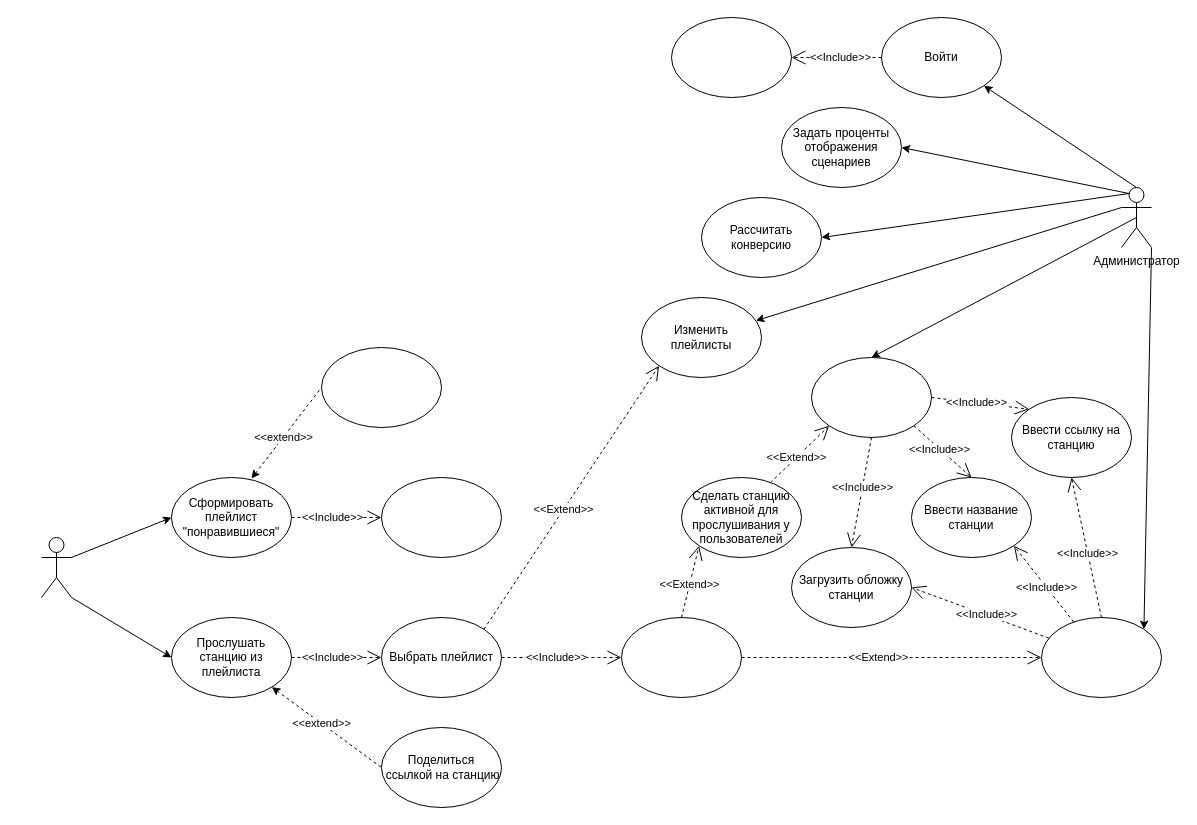
Some shapes in this 1197 by 825 pixel diagram are drawn without their labels. Here are the shapes that lost their labels. From the top down, the centre of each, then its label:
(731,57): Ввести Логин и пароль
(381,387): Поделиться ссылкой на плейлист "понравившиеся"
(871,397): Создать новую станцию
(441,517): Выбрать понравившиеся станции
(56,567): Пользователь
(681,657): Выбрать станцию
(1101,657): Изменить информацию о существующей станции
